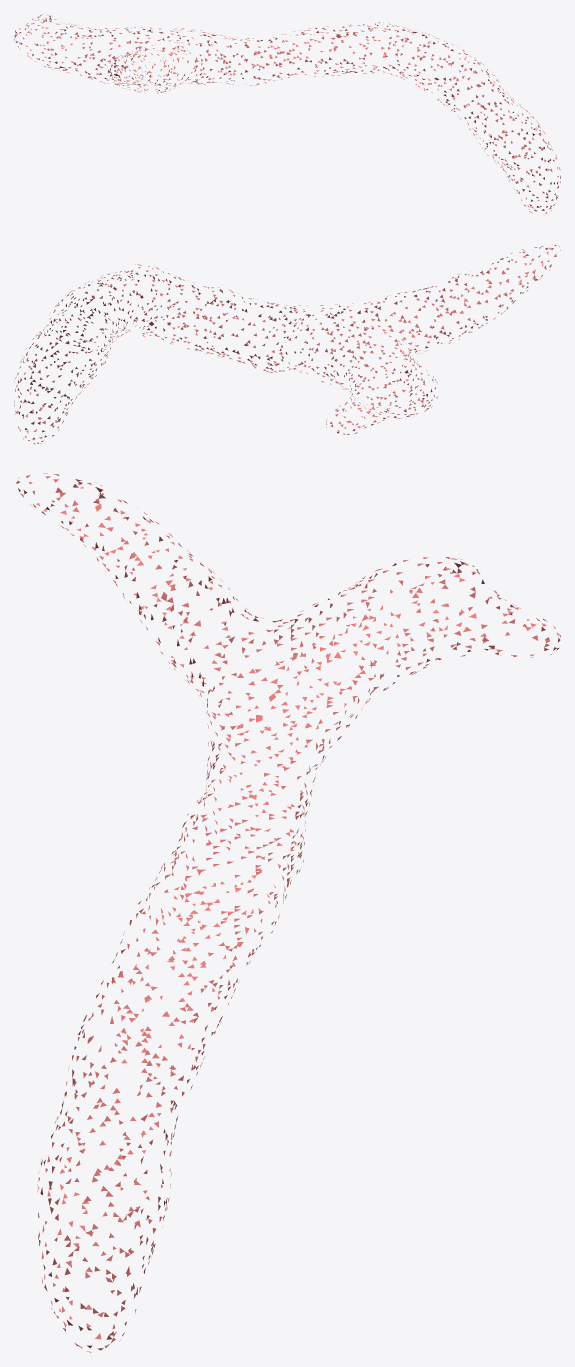
The model's file is morph_000.glb.
3 renders of one model, top to bottom at view 1: azimuth 30°, elevation 25°; view 2: azimuth 150°, elevation 25°; view 3: azimuth 270°, elevation 25°, orthographic. The views are drawn at different scales.
Bounding box in the file's own units: 102 × 57.42 × 58.19.
